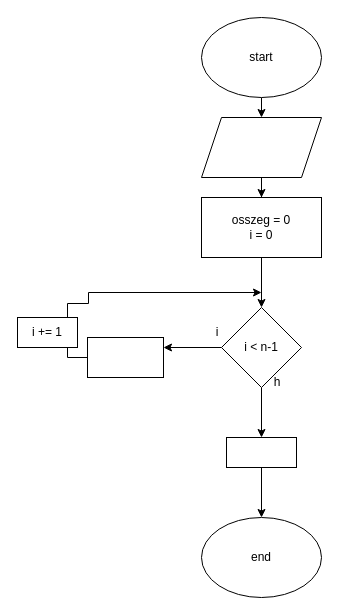
Image size: 339x615. Some labels were removed from this diagram. Here are the shapes that lost their labels. From the top down, the centre of each, then its label:
At point 261,147: "be : lista[] n (egesz szam)".
At point 125,357: "osszeg += lista[i]".
At point 261,452: "ki : osszeg".
